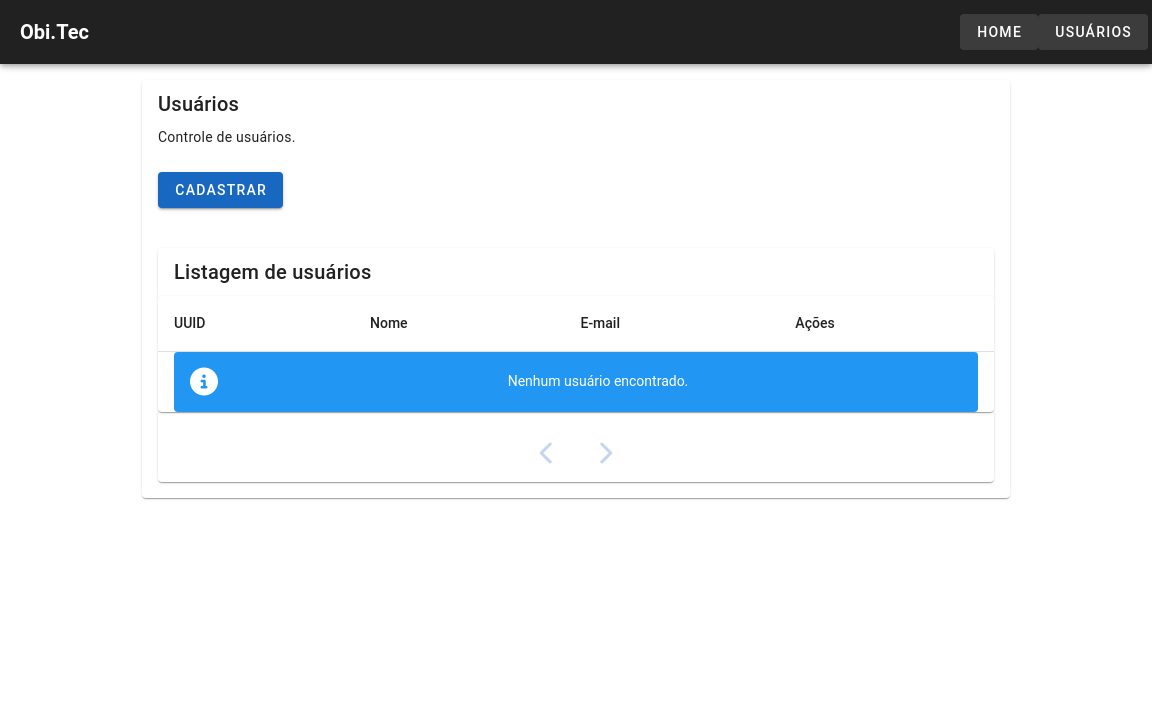
User List Page › should open the user registration modal
Click the text "Cadastrar".
click(221, 190)  # box [174,182,267,198]
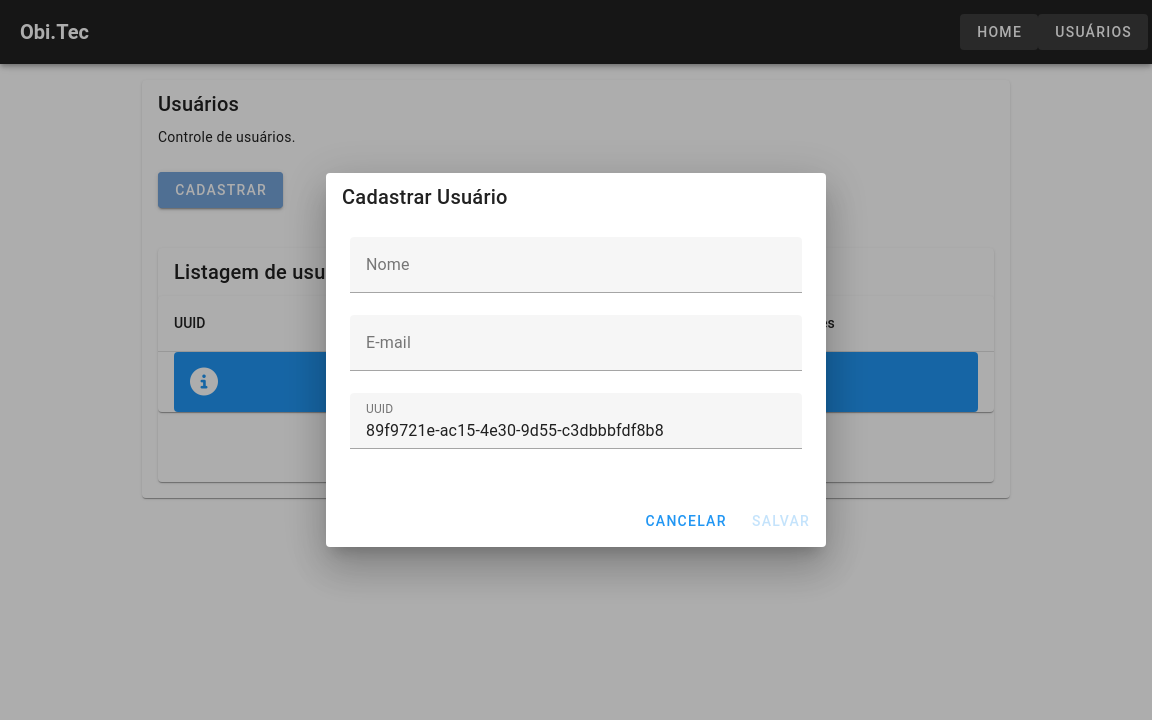
Expected: the dialog with test id "user-modal" is shown
Expected: the element with test id "user-input-name" is shown, [350,237,802,315]
Expected: the element with test id "user-input-email" is shown, [350,315,802,393]
